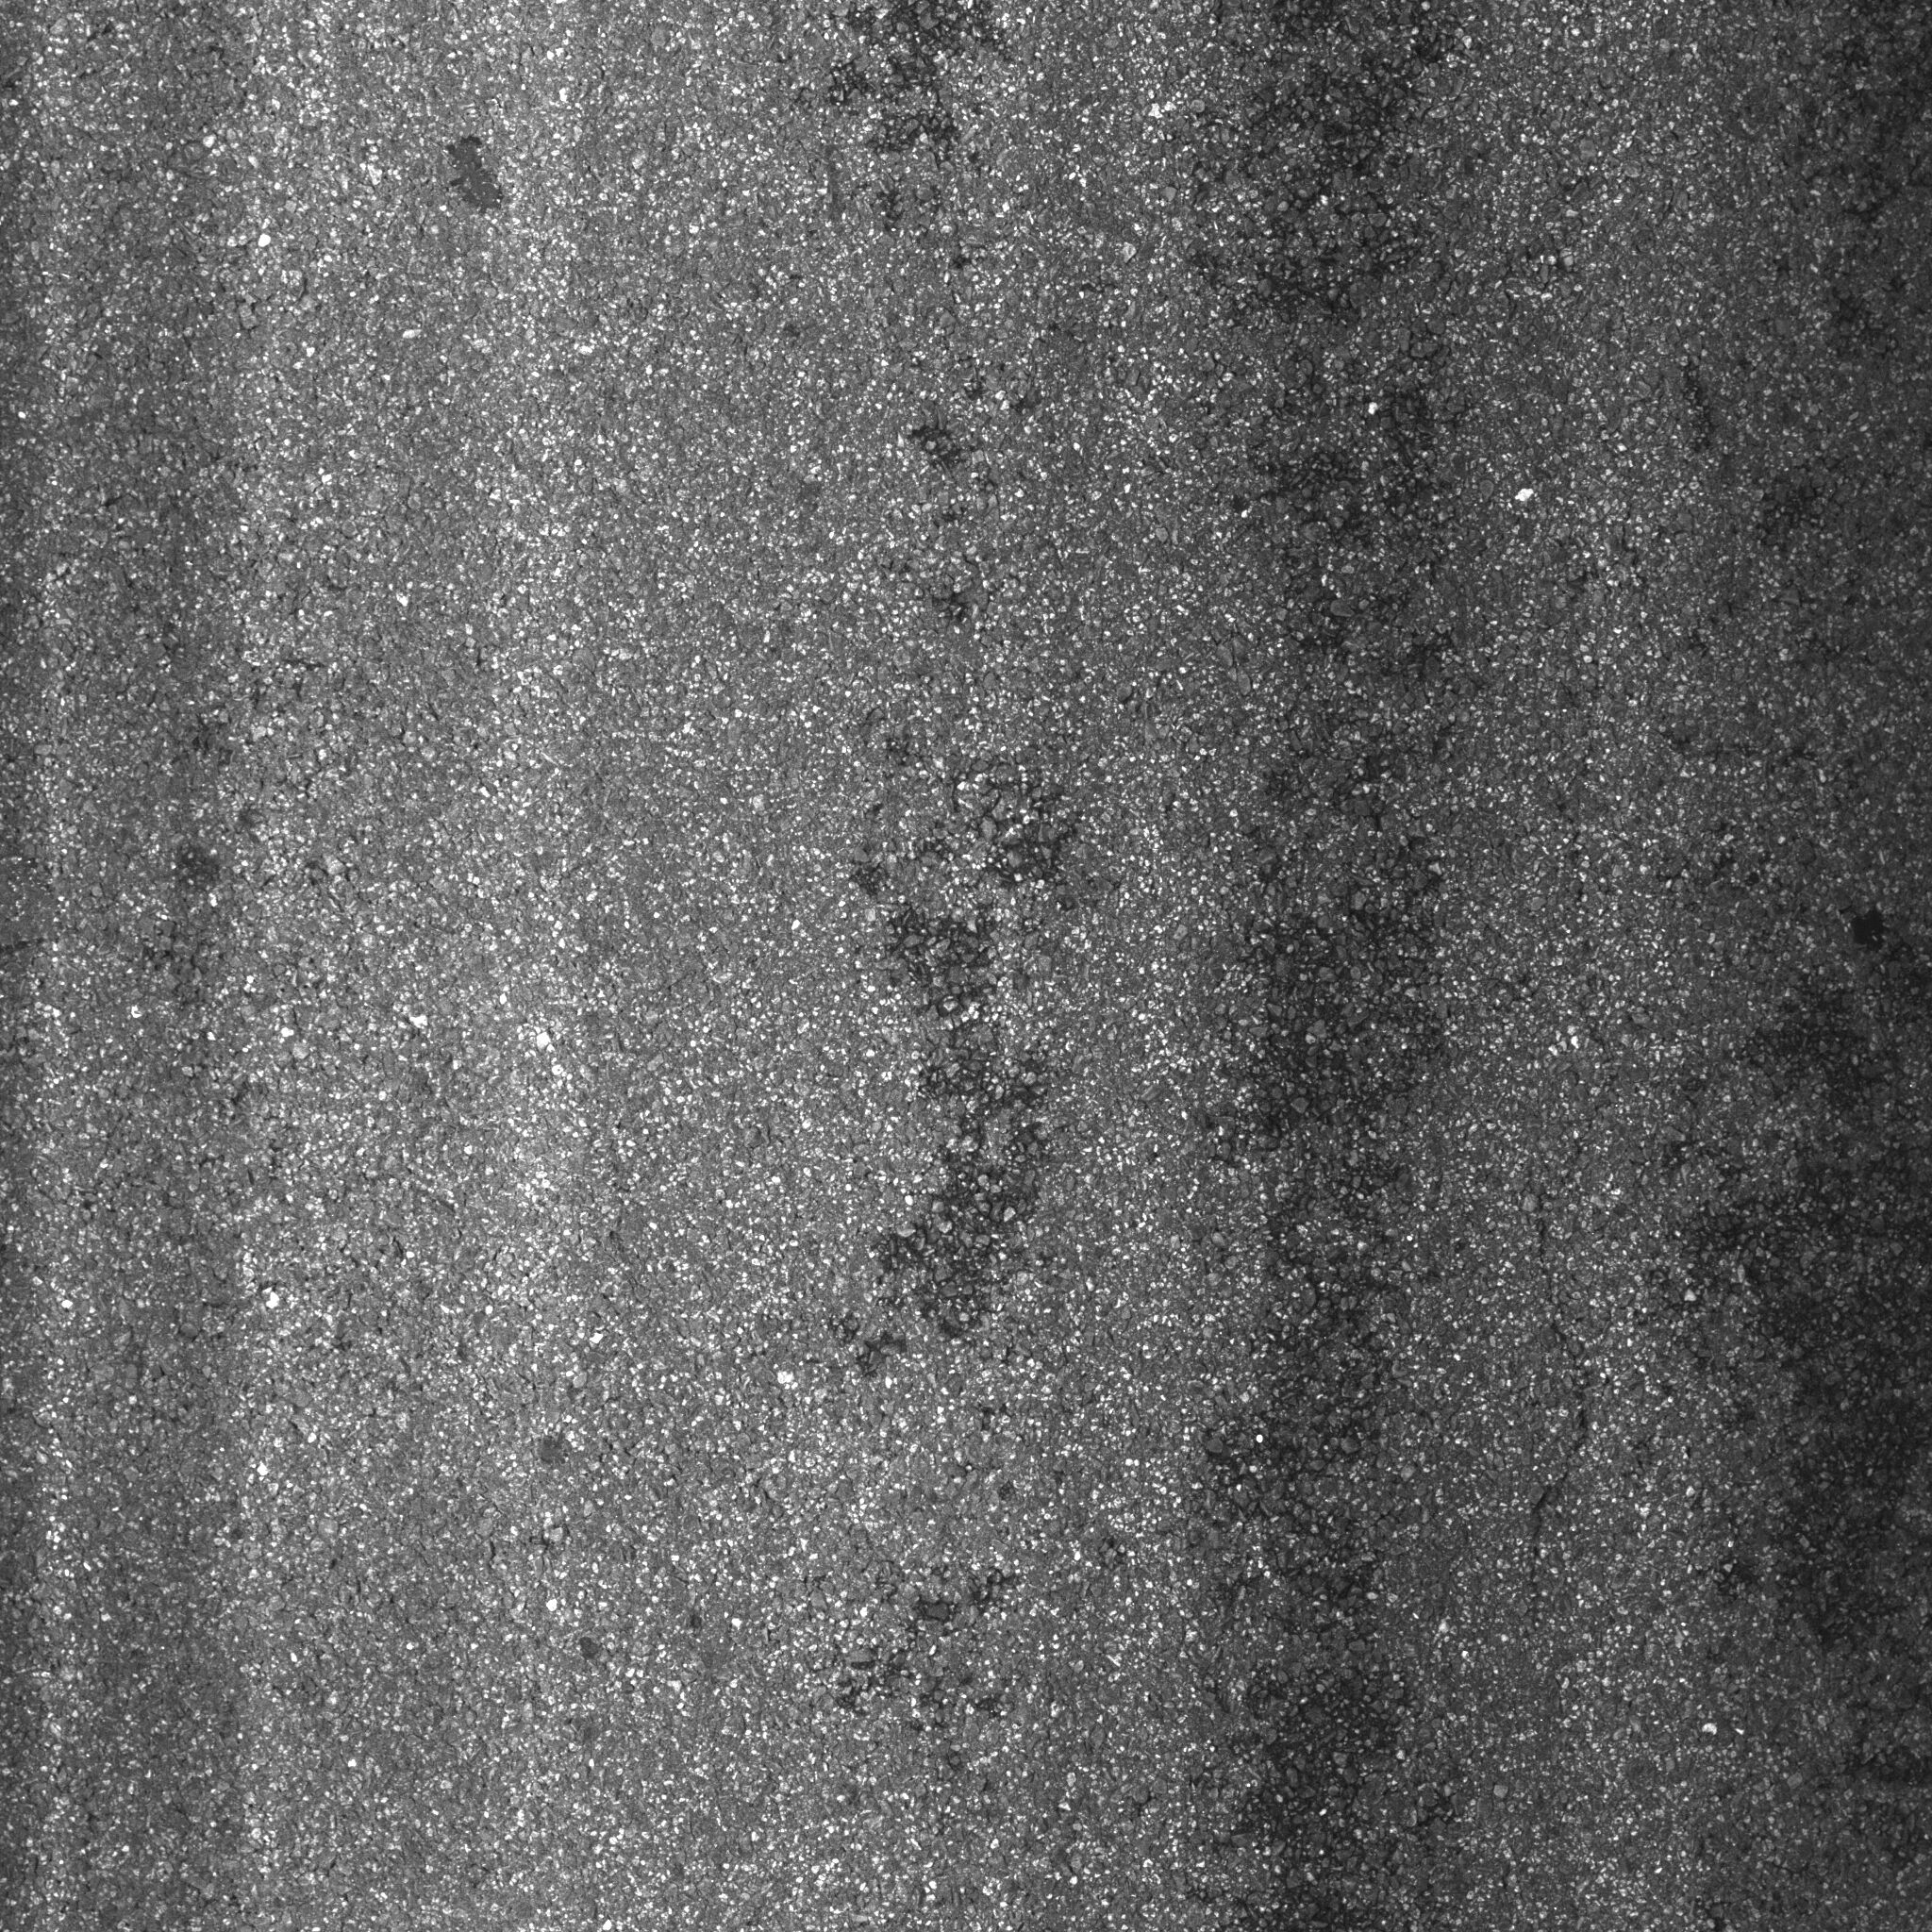longitudinal: (1481, 906, 1608, 1764)
